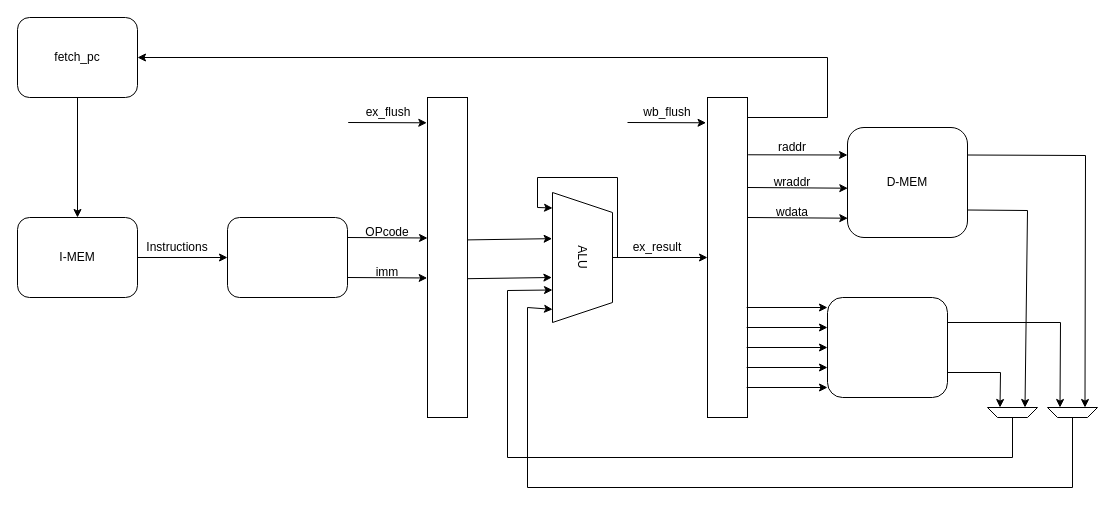
Image size: 1115x513. Some labels were removed from this diagram. Each missing label, with the centre of its shape:
Decoder: the point at 287,257
Register File: the point at 887,347
